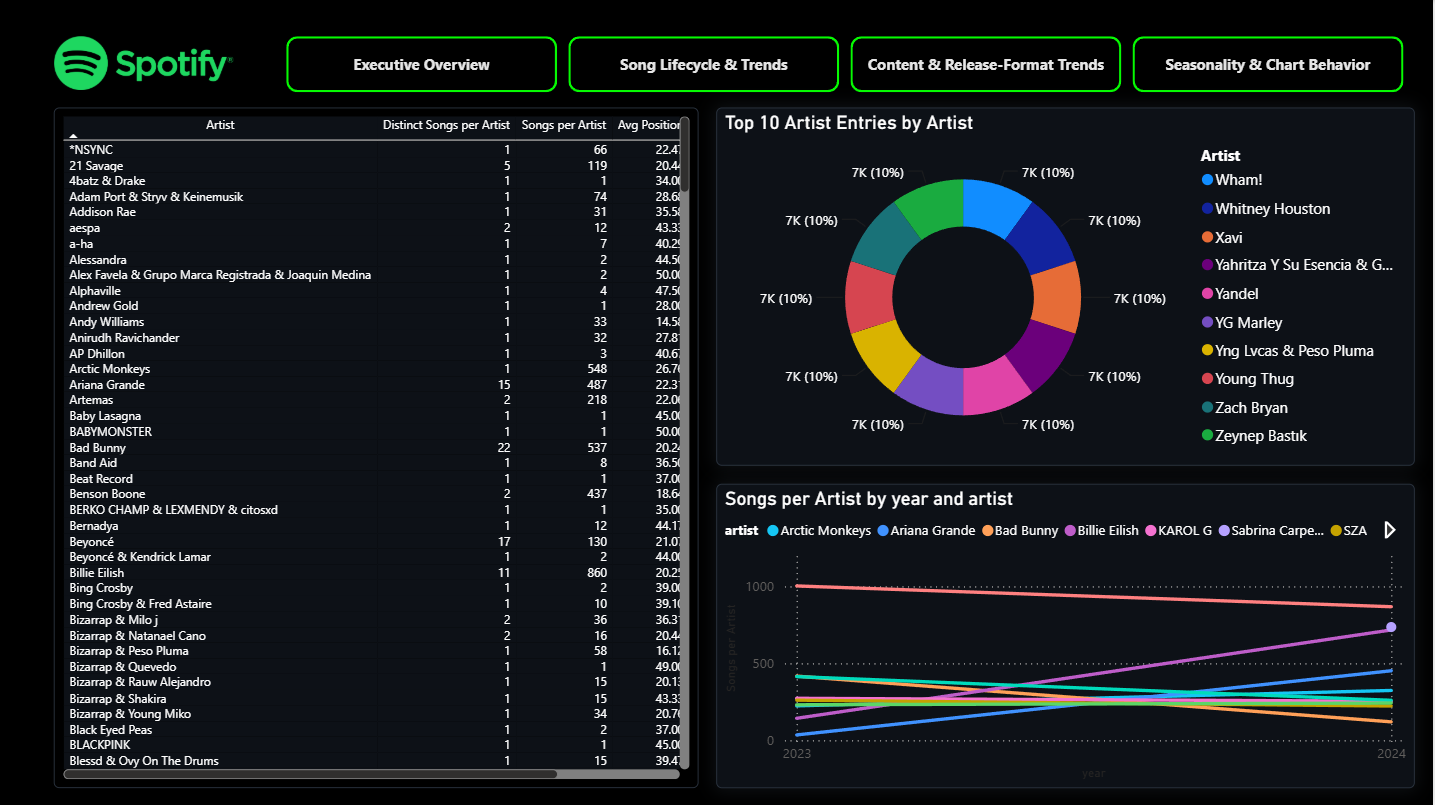

This screenshot's page, from the dashboard's own definition file:
{"tool":"powerbi","page":{"name":"Artist Deep Dive","canvas":[1280,720],"ordinal":2},"visuals":[{"type":"image","box":[32,32,192,48],"z":0},{"type":"tableEx","fields":{"Values":["dim_songs.artist","Measure.Distinct Songs per Artist","Measure.Songs per Artist","Measure.Avg Position","Measure.Avg Popularity per Artist"]},"box":[48,96,576,608],"z":1000},{"type":"donutChart","fields":{"Category":["dim_songs.artist"],"Y":["Measure.Top 10 Artist Entries"]},"box":[640,96,624,320],"z":2000},{"type":"lineChart","fields":{"Category":["dim_dates.year"],"Y":["Measure.Songs per Artist"],"Series":["dim_songs.artist"]},"box":[640,432,624,272],"z":3000},{"type":"pageNavigator","box":[256,32,1000,50],"z":4000}]}

Visuals, with their boxes in screenshot pixels (x1, y1, x2, y2), scaled from the page's 1280x720 canvas onto the 1435x805 screenshot:
image: [x1=36, y1=36, x2=251, y2=89]
tableEx - dim_songs.artist x Measure.Distinct Songs per Artist: [x1=54, y1=107, x2=700, y2=787]
donutChart - dim_songs.artist x Measure.Top 10 Artist Entries: [x1=718, y1=107, x2=1417, y2=465]
lineChart - dim_dates.year x Measure.Songs per Artist: [x1=718, y1=483, x2=1417, y2=787]
pageNavigator: [x1=287, y1=36, x2=1408, y2=92]
